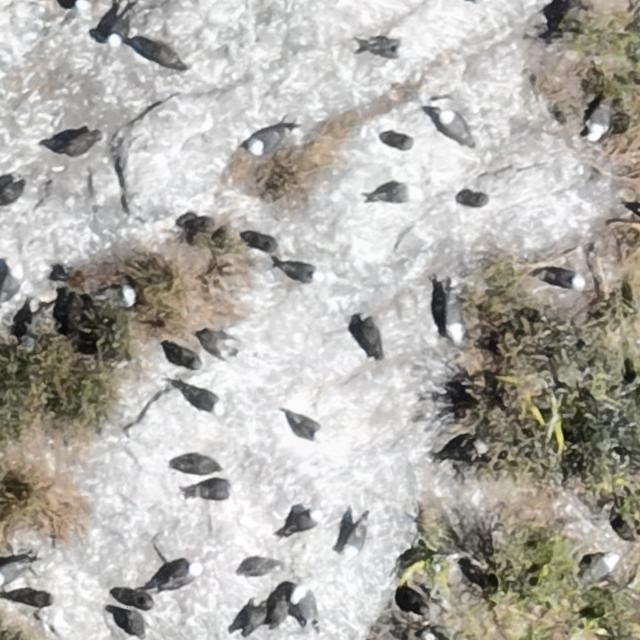umineko: (155, 560, 204, 590), (293, 584, 322, 630), (354, 36, 411, 59), (587, 102, 613, 142), (184, 389, 222, 412), (372, 185, 416, 203), (101, 284, 134, 308), (250, 128, 284, 151), (108, 14, 131, 48), (278, 262, 318, 281), (446, 297, 464, 339), (439, 112, 465, 141), (289, 414, 320, 438), (586, 554, 616, 578), (544, 270, 580, 289), (362, 319, 380, 355), (1, 563, 24, 585), (288, 512, 314, 531), (346, 529, 362, 556)
